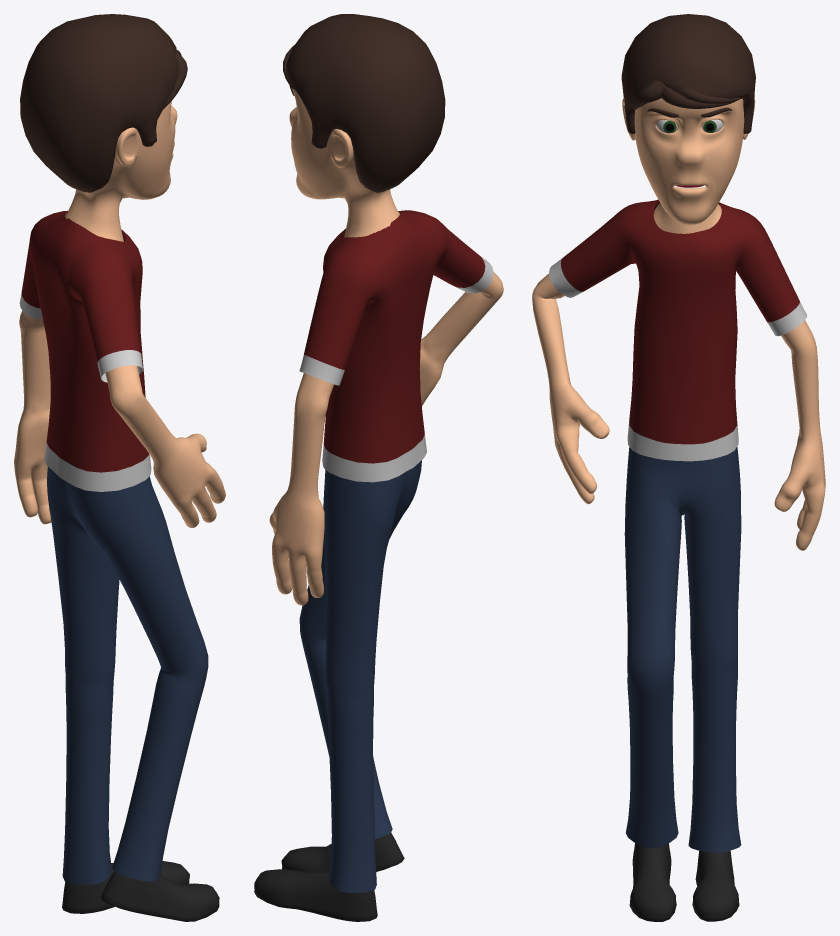
Rendered from PorlBig.obj.
3 views of the same model, side by side, from view 1: azimuth 30°, elevation 25°; view 2: azimuth 150°, elevation 25°; view 3: azimuth 270°, elevation 25° (orthographic). The views are drawn at different scales.
Visible parts, largest first — view 1: Pants_Plane.021, Character_Mesh_Plane.001, T-Shirt_Plane.023, Hair1_Cube.003; view 2: T-Shirt_Plane.023, Pants_Plane.021, Character_Mesh_Plane.001, Hair1_Cube.003; view 3: Pants_Plane.021, T-Shirt_Plane.023, Character_Mesh_Plane.001, Hair1_Cube.003, Hair2_Circle.011.
Boxes of the visible parts, left/top/right/bottom form: Pants_Plane.021: left=47, top=467, right=208, bottom=884; Character_Mesh_Plane.001: left=14, top=101, right=225, bottom=921; T-Shirt_Plane.023: left=19, top=210, right=151, bottom=491; Hair1_Cube.003: left=20, top=14, right=177, bottom=192; T-Shirt_Plane.023: left=299, top=210, right=493, bottom=482; Pants_Plane.021: left=299, top=460, right=421, bottom=892; Character_Mesh_Plane.001: left=254, top=86, right=503, bottom=921; Hair1_Cube.003: left=286, top=14, right=445, bottom=192; Pants_Plane.021: left=624, top=446, right=741, bottom=852; T-Shirt_Plane.023: left=549, top=199, right=807, bottom=461; Character_Mesh_Plane.001: left=532, top=98, right=825, bottom=921; Hair1_Cube.003: left=621, top=14, right=755, bottom=133; Hair2_Circle.011: left=632, top=80, right=740, bottom=109.
Bounding box in the file's own units: 0.0684 × 0.3523 × 0.1094.
